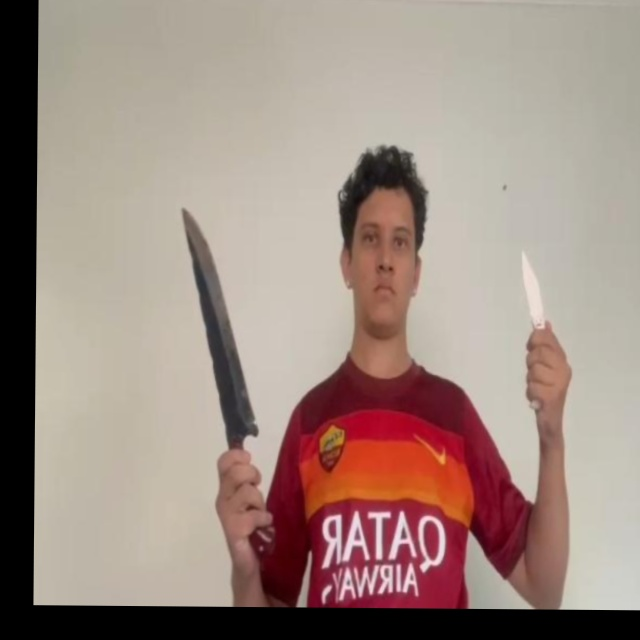Sharp-Object: (180, 204, 262, 440), (521, 250, 547, 329)
